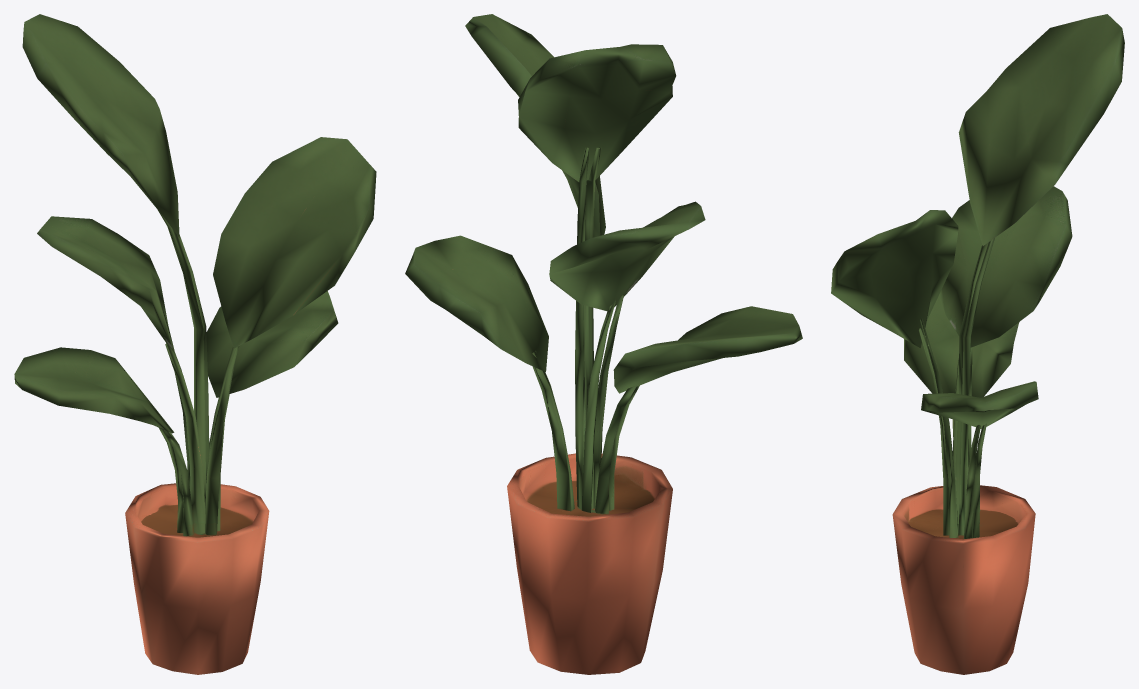
Rendered from plant.fbx.
The picture shows the model from 3 angles, left to right: view 1: azimuth 30°, elevation 25°; view 2: azimuth 150°, elevation 25°; view 3: azimuth 270°, elevation 25°; orthographic projection. The views are drawn at different scales.
Parts seen in each view (by area): view 1: Mesh_0; view 2: Mesh_0; view 3: Mesh_0.
Boxes of the visible parts, <box> form: Mesh_0: <box>14,14,376,674</box>; Mesh_0: <box>405,14,802,674</box>; Mesh_0: <box>831,14,1124,674</box>.
Size of the model in its own units: 53.42 by 95.26 by 42.92.
Materials: 1 (1 with a texture image).
